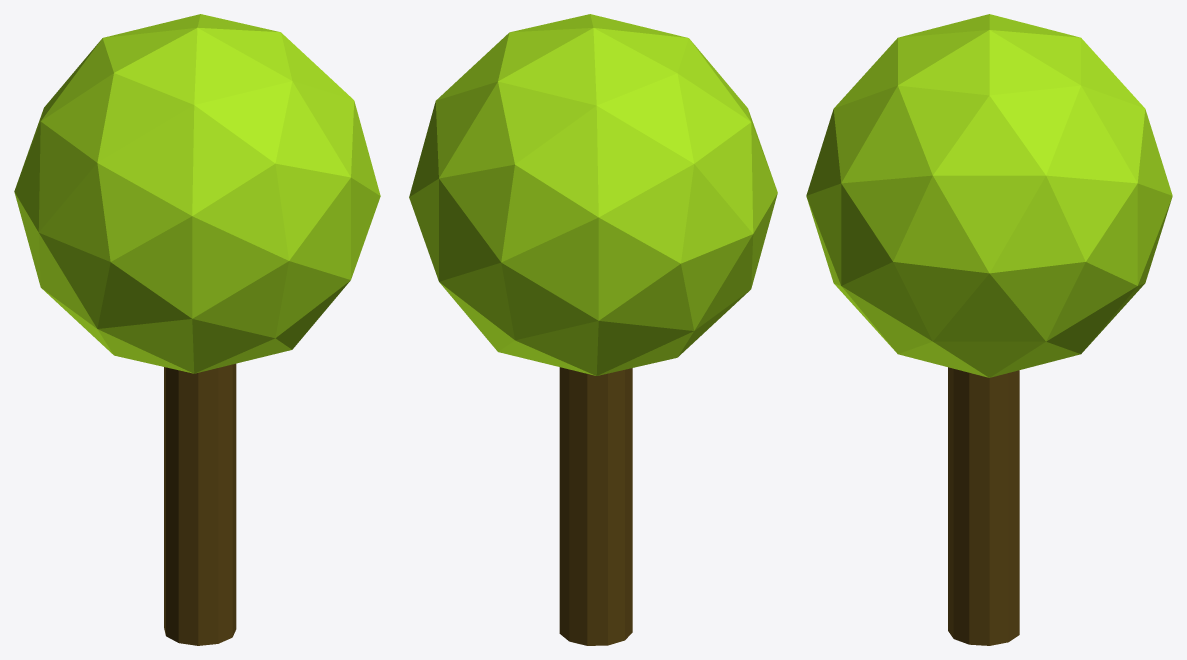
Rendered from tree-animated.glb.
3 views of the same model, side by side, from view 1: azimuth 30°, elevation 25°; view 2: azimuth 150°, elevation 25°; view 3: azimuth 270°, elevation 25° (orthographic).
Visible parts, largest first — view 1: Icosahedron, Cylinder; view 2: Icosahedron, Cylinder; view 3: Icosahedron, Cylinder.
Part boxes in pixels (x1,y1,x2,y2): Icosahedron: (14,14,380,373); Cylinder: (164,363,236,645); Icosahedron: (409,14,777,375); Cylinder: (559,367,632,645); Icosahedron: (806,14,1172,377); Cylinder: (948,367,1019,645).
Size of the model in its own units: 1 by 1.81 by 1.
